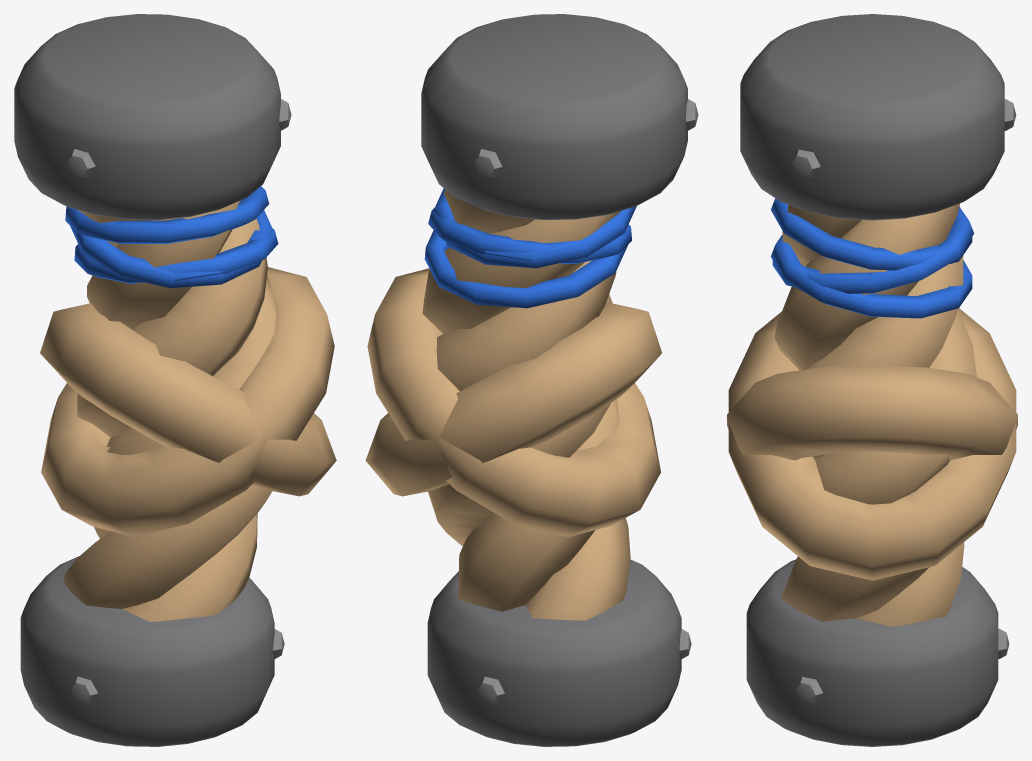
The model's file is Kit_Limb_Rope_S.glb.
3 renders of one model, left to right at view 1: azimuth 30°, elevation 25°; view 2: azimuth 150°, elevation 25°; view 3: azimuth 270°, elevation 25°, orthographic.
Parts seen in each view (by area): view 1: Kit_Limb_Rope_S; view 2: Kit_Limb_Rope_S; view 3: Kit_Limb_Rope_S.
Boxes of the visible parts, x1,y1,x2,y2 form: Kit_Limb_Rope_S: (14,14,336,746); Kit_Limb_Rope_S: (365,14,698,746); Kit_Limb_Rope_S: (727,14,1017,746).
Bounding box in the file's own units: 0.1199 × 0.2591 × 0.1061.
